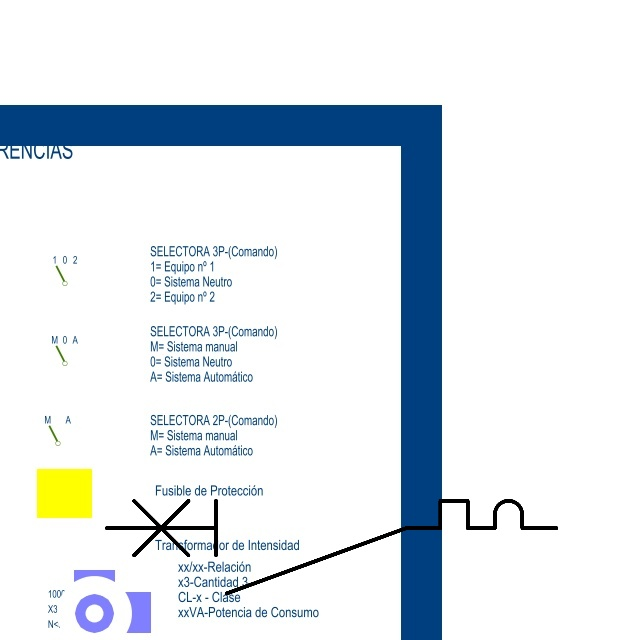interruptor_termomagnetico: (95, 489, 568, 605)
